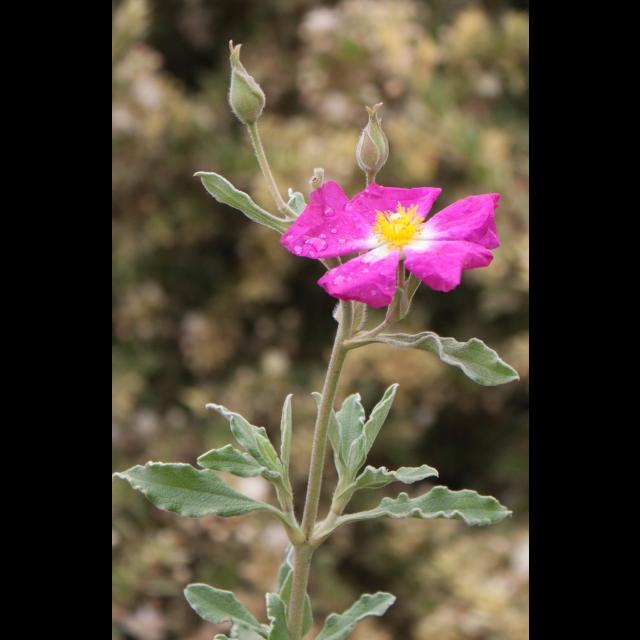Flower: (291, 172, 503, 318)
